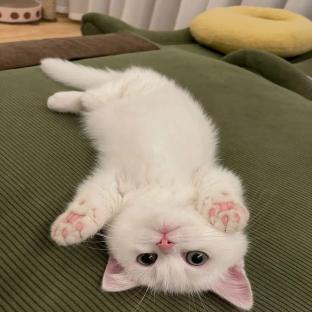Animal: (41, 58, 253, 310)
